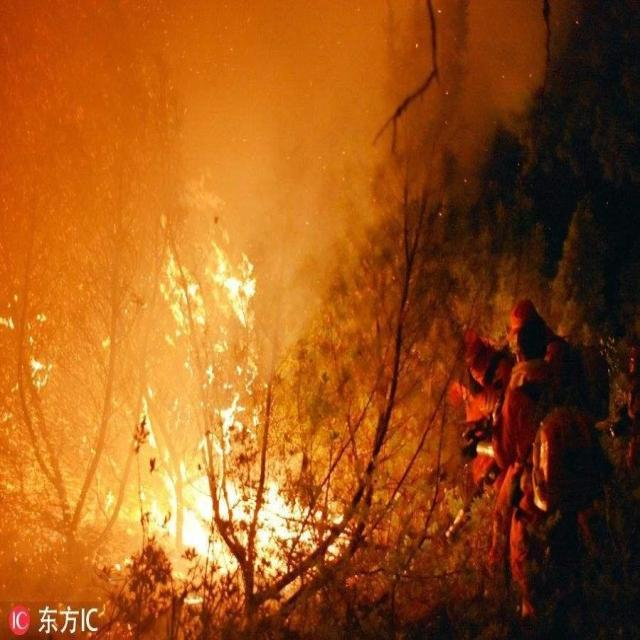fire: (119, 223, 341, 577), (2, 285, 112, 425)
